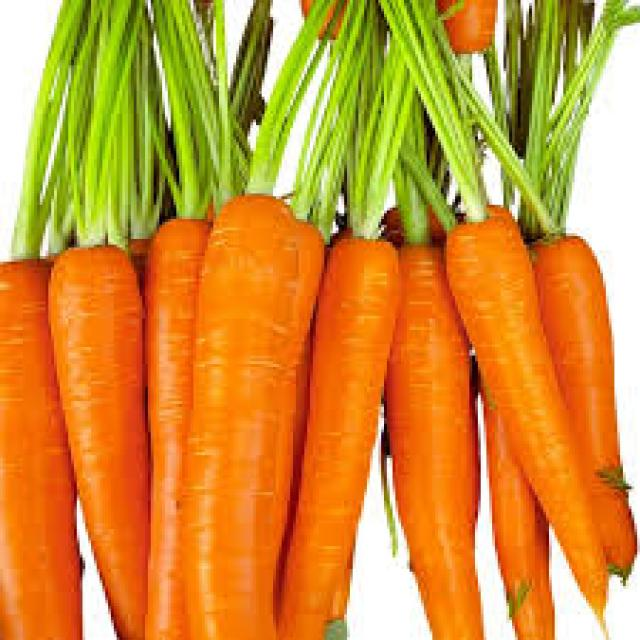Carrot: (46, 244, 154, 636)
